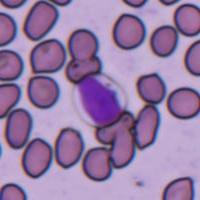L: (74, 74, 128, 127)
